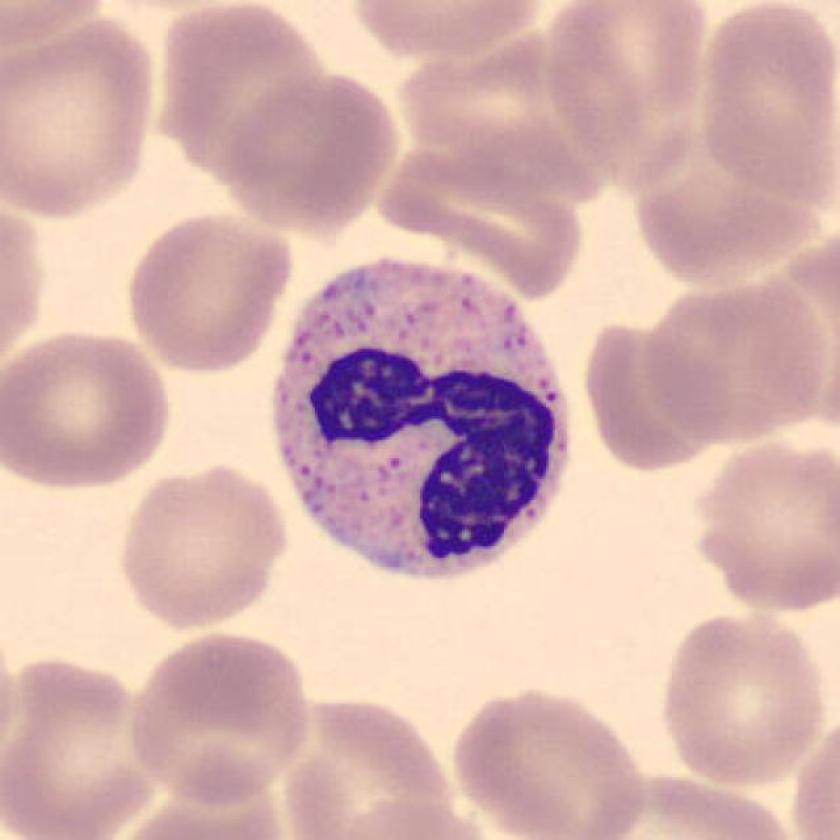neutrophil: (277, 259, 572, 576)
